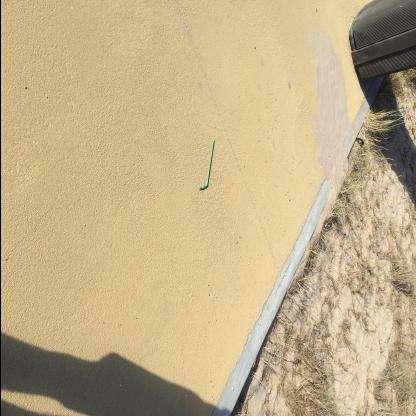plastik: (198, 138, 214, 190)
